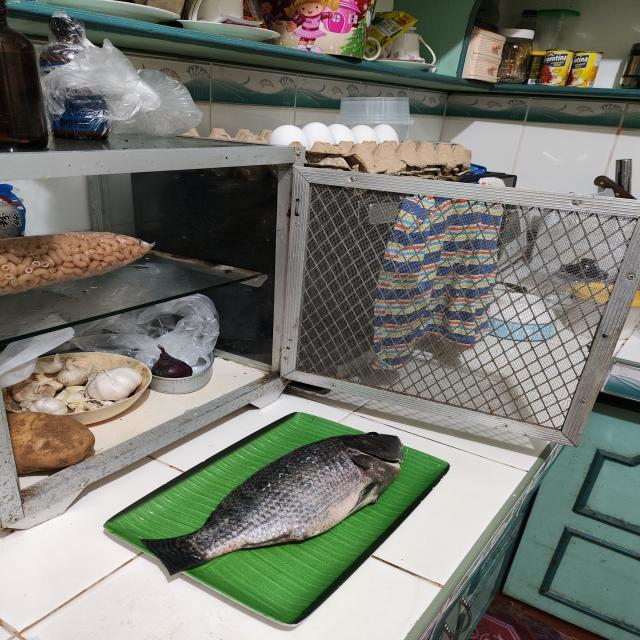egg: (271, 123, 397, 146)
fish: (145, 432, 405, 576)
garlic: (15, 360, 140, 414)
onion: (155, 347, 193, 382)
potato: (5, 411, 97, 470)
